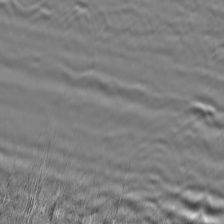cavities: (0, 73, 81, 185), (86, 30, 172, 118)
